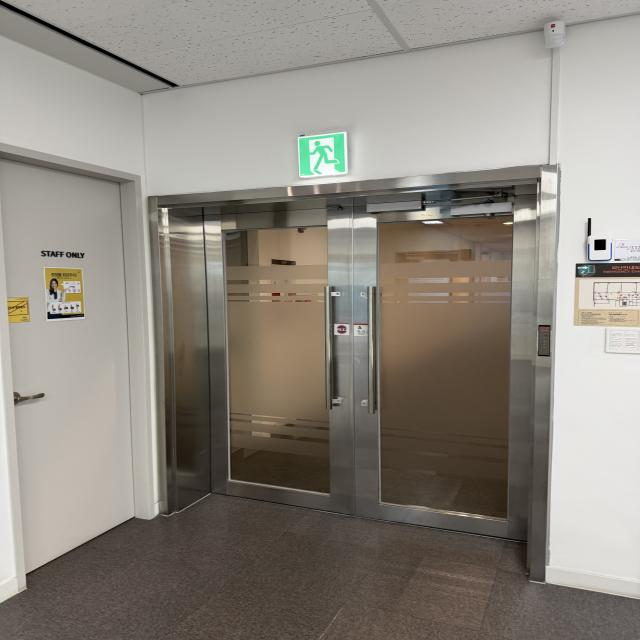rear_door: (157, 198, 535, 541)
